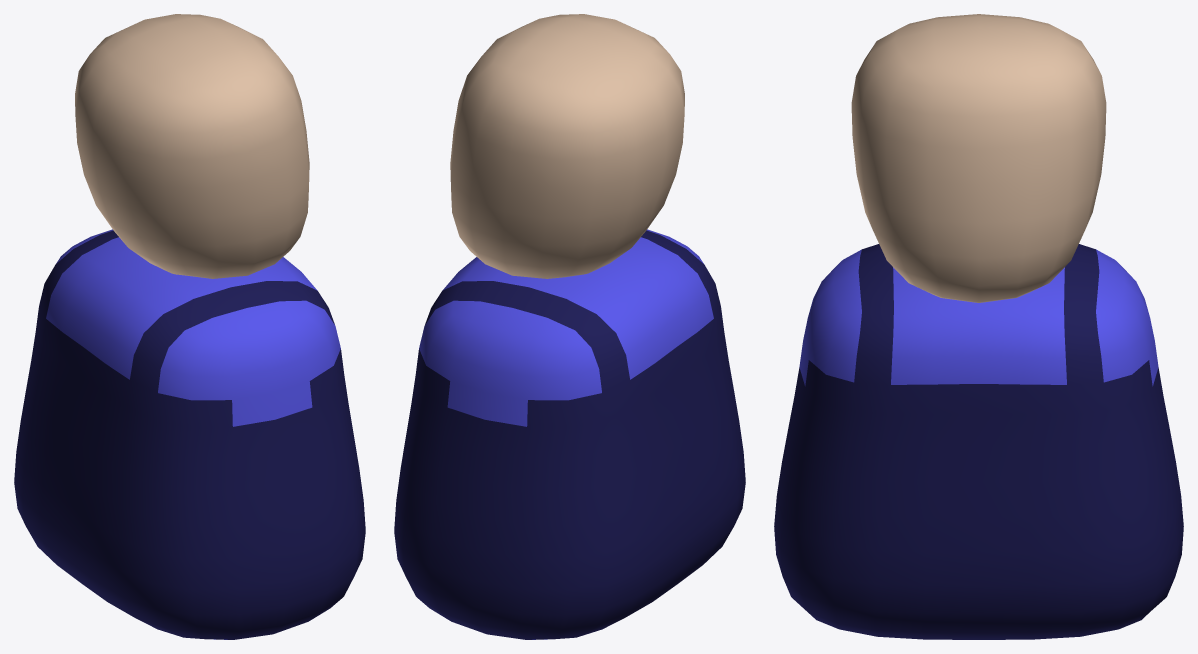
The model's file is worker.fbx.
The picture shows the model from 3 angles, left to right: view 1: azimuth 30°, elevation 25°; view 2: azimuth 150°, elevation 25°; view 3: azimuth 270°, elevation 25°; orthographic projection. The views are drawn at different scales.
Parts seen in each view (by area): view 1: Cube.001; view 2: Cube.001; view 3: Cube.001.
Boxes of the visible parts, x1,y1,x2,y2 form: Cube.001: (14,14,365,639); Cube.001: (394,14,745,639); Cube.001: (774,14,1183,639).
Size of the model in its own units: 174 by 371 by 237.
